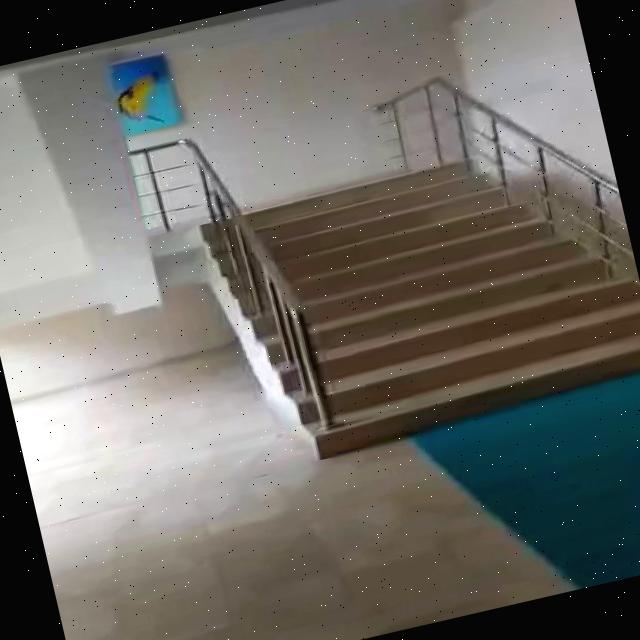stairs: (204, 125, 640, 467)
